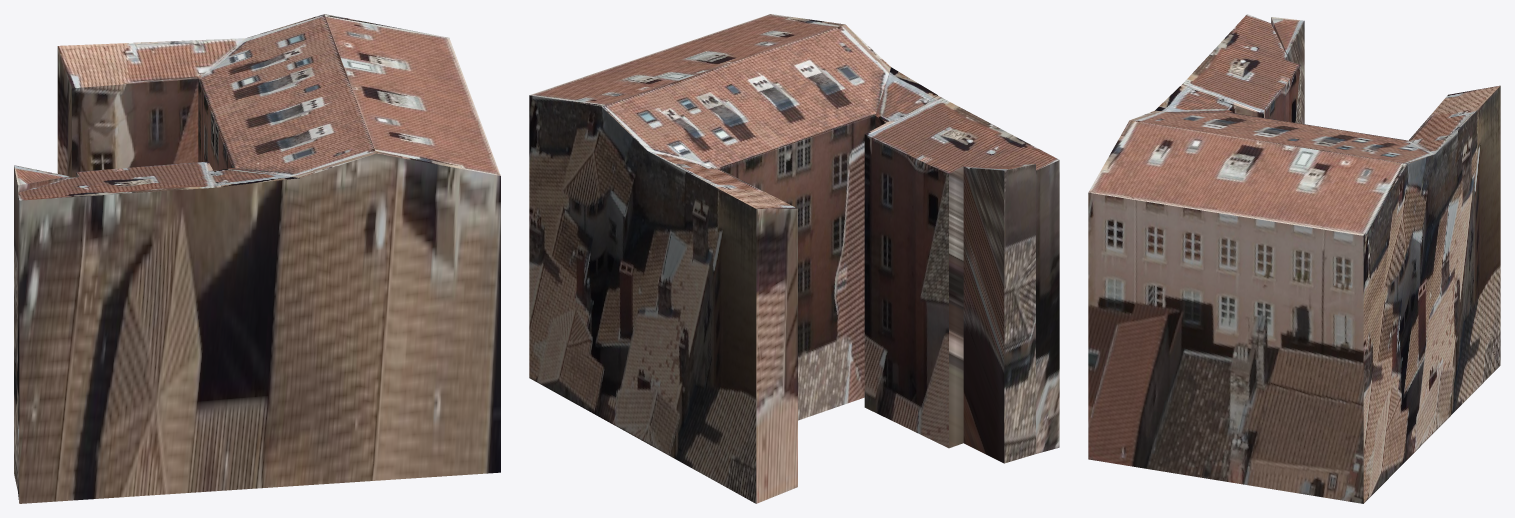
3 views of the same model, side by side, from view 1: azimuth 30°, elevation 25°; view 2: azimuth 150°, elevation 25°; view 3: azimuth 270°, elevation 25° (orthographic). The views are drawn at different scales.
Visible parts, largest first — view 1: Z_UP; view 2: Z_UP; view 3: Z_UP.
Boxes of the visible parts, x1=… form: Z_UP: x1=14, y1=14, x2=500, y2=503; Z_UP: x1=529, y1=14, x2=1059, y2=503; Z_UP: x1=1088, y1=14, x2=1500, y2=503.
Size of the model in its own units: 34.82 by 22.1 by 27.94.
Materials: 2 (1 with a texture image).
